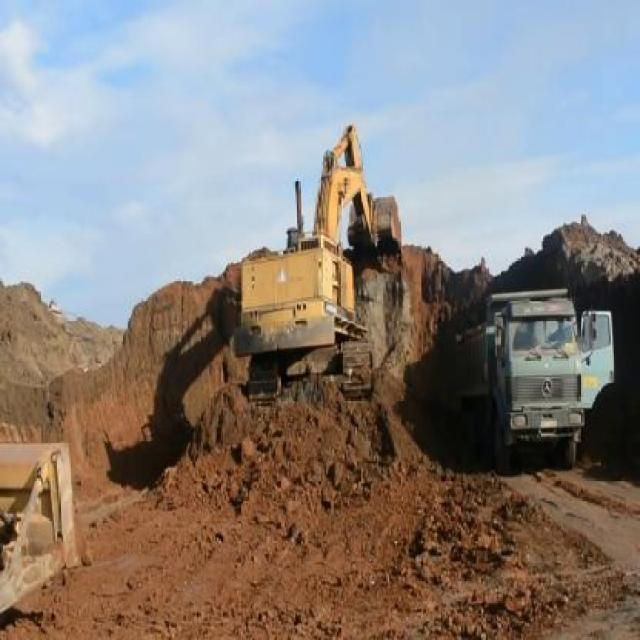dump_truck: (453, 288, 612, 477)
excavator: (227, 122, 404, 396)
